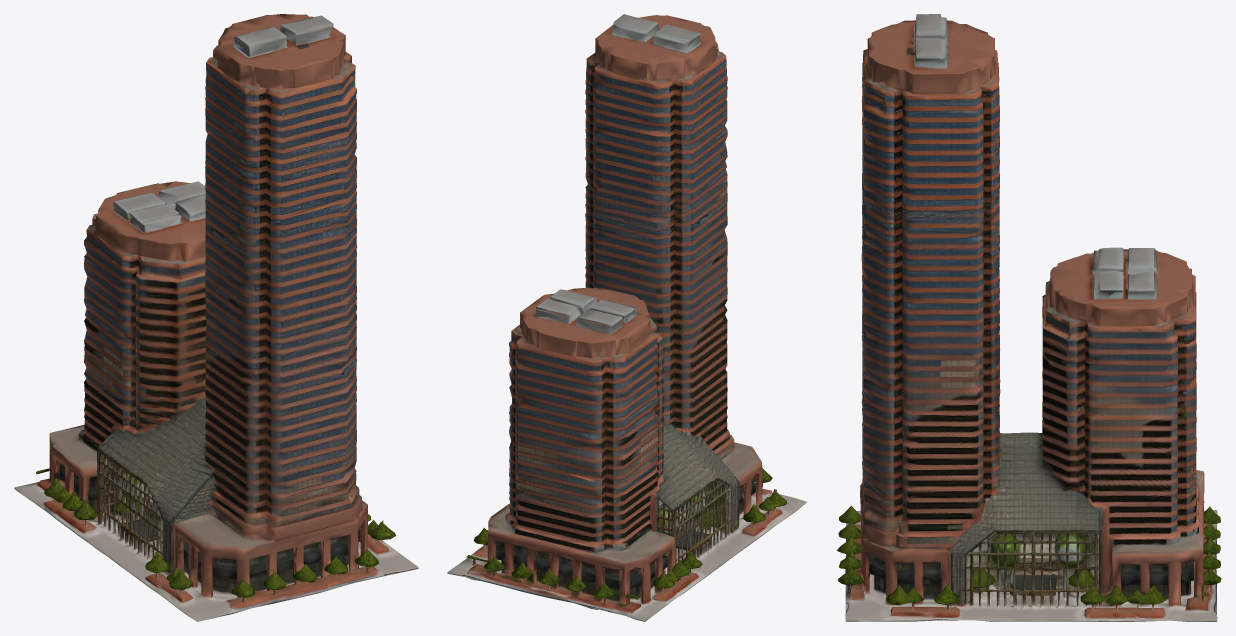
File: suncor.glb
3 views of the same model, side by side, from view 1: azimuth 30°, elevation 25°; view 2: azimuth 150°, elevation 25°; view 3: azimuth 270°, elevation 25° (orthographic). The views are drawn at different scales.
Visible parts, largest first — view 1: tripo_node_0d3b75a3-4d34-416c-9a84-15db1a058ed9; view 2: tripo_node_0d3b75a3-4d34-416c-9a84-15db1a058ed9; view 3: tripo_node_0d3b75a3-4d34-416c-9a84-15db1a058ed9.
Boxes of the visible parts, x1,y1,x2,y2 form: tripo_node_0d3b75a3-4d34-416c-9a84-15db1a058ed9: (14,14,418,621); tripo_node_0d3b75a3-4d34-416c-9a84-15db1a058ed9: (447,14,806,621); tripo_node_0d3b75a3-4d34-416c-9a84-15db1a058ed9: (836,14,1221,621).
Bounding box in the file's own units: 0.4411 × 1 × 0.6451.
1 material, 1 textured.
